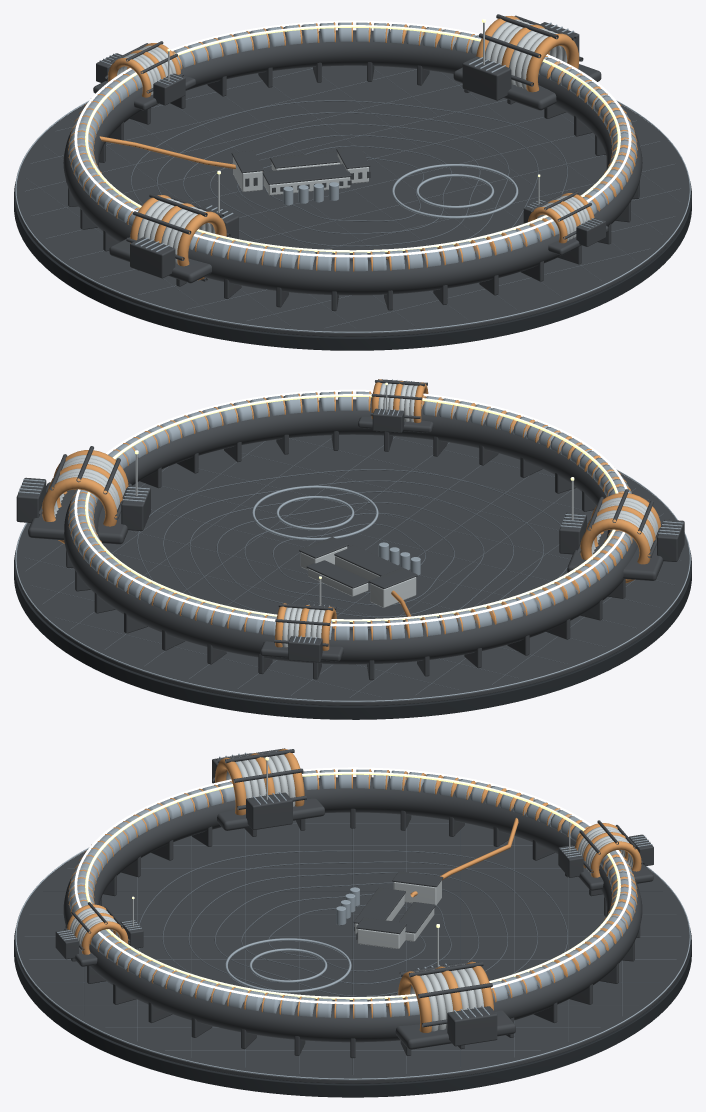
File: collider.glb
The picture shows the model from 3 angles, top to bottom: view 1: azimuth 30°, elevation 25°; view 2: azimuth 150°, elevation 25°; view 3: azimuth 270°, elevation 25°; orthographic projection.
Visible parts, largest first — view 1: Graphite terrain plane, Open tunnel foundation, 96 superconducting magnet housings, Basalt foundation, 96 copper expansion couplings, Beam A · clockwise, Beam B · anticlockwise, Top perimeter, Service equipment, Service equipment.005, Flat roof, Experiment platform (+18 smaller); view 2: Graphite terrain plane, Open tunnel foundation, 96 superconducting magnet housings, Basalt foundation, 96 copper expansion couplings, Beam A · clockwise, Beam B · anticlockwise, Top perimeter, Experiment platform, Detector yoke 0/8, Detector yoke 2/0, Experiment platform.002 (+20 smaller); view 3: Graphite terrain plane, Open tunnel foundation, 96 superconducting magnet housings, Basalt foundation, 96 copper expansion couplings, Beam A · clockwise, Beam B · anticlockwise, Top perimeter, Service equipment.001, Service equipment.004, Experiment platform, Experiment platform.002 (+21 smaller).
Boxes of the visible parts, <box> form: Graphite terrain plane: <box>15,65,689,336</box>; Open tunnel foundation: <box>63,30,642,295</box>; 96 superconducting magnet housings: <box>68,22,637,271</box>; Basalt foundation: <box>14,181,691,350</box>; 96 copper expansion couplings: <box>68,22,637,271</box>; Beam A · clockwise: <box>85,25,620,252</box>; Beam B · anticlockwise: <box>74,20,631,257</box>; Top perimeter: <box>15,100,690,332</box>; Service equipment: <box>462,56,511,100</box>; Service equipment.005: <box>130,237,175,278</box>; Flat roof: <box>262,164,351,184</box>; Experiment platform: <box>453,64,601,110</box>; Graphite terrain plane: <box>16,434,690,705</box>; Open tunnel foundation: <box>63,399,637,664</box>; 96 superconducting magnet housings: <box>68,391,633,640</box>; Basalt foundation: <box>14,550,691,719</box>; 96 copper expansion couplings: <box>68,391,632,640</box>; Beam A · clockwise: <box>85,394,618,622</box>; Beam B · anticlockwise: <box>74,389,628,626</box>; Top perimeter: <box>15,469,690,701</box>; Experiment platform: <box>28,482,128,544</box>; Detector yoke 0/8: <box>42,477,117,543</box>; Detector yoke 2/0: <box>580,518,650,582</box>; Experiment platform.002: <box>567,523,663,580</box>; Graphite terrain plane: <box>16,812,689,1083</box>; Open tunnel foundation: <box>63,777,642,1042</box>; 96 superconducting magnet housings: <box>68,769,637,1017</box>; Basalt foundation: <box>14,928,691,1097</box>; 96 copper expansion couplings: <box>68,769,637,1018</box>; Beam A · clockwise: <box>85,772,620,999</box>; Beam B · anticlockwise: <box>74,767,631,1004</box>; Top perimeter: <box>15,847,690,1079</box>; Service equipment.001: <box>447,1006,497,1046</box>; Service equipment.004: <box>246,792,292,829</box>; Experiment platform: <box>386,1003,515,1049</box>; Experiment platform.002: <box>217,798,324,830</box>.
Size of the model in its own units: 12.6 by 2.35 by 12.6.
